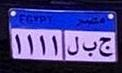1: (51, 35, 59, 56), (38, 35, 46, 55), (27, 34, 34, 56), (15, 34, 21, 54)
baa: (82, 40, 97, 56)
jeem: (98, 37, 112, 58)
laam: (68, 36, 79, 57)
